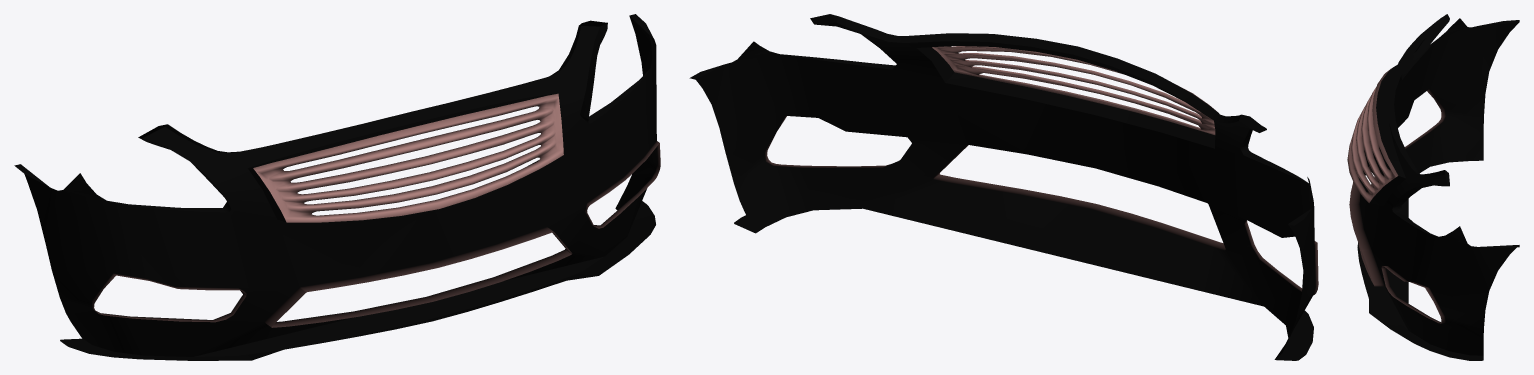
Rendered from G37_FB_04_Trim.fbx.
3 views of the same model, side by side, from view 1: azimuth 30°, elevation 25°; view 2: azimuth 150°, elevation 25°; view 3: azimuth 270°, elevation 25° (orthographic). The views are drawn at different scales.
Parts seen in each view (by area): view 1: G37_FB_04_Trim; view 2: G37_FB_04_Trim; view 3: G37_FB_04_Trim.
Part boxes in pixels (<box>): G37_FB_04_Trim: <box>14,14,660,360</box>; G37_FB_04_Trim: <box>689,14,1318,360</box>; G37_FB_04_Trim: <box>1347,14,1519,360</box>.
Size of the model in its own units: 180 by 60.78 by 57.73.
